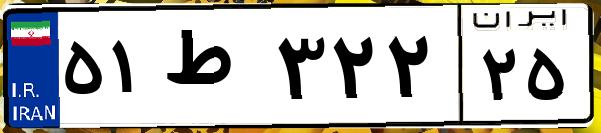1: (110, 28, 158, 98)
2: (385, 28, 445, 110), (330, 28, 385, 110), (475, 38, 525, 113)
3: (270, 28, 330, 110)
5: (57, 26, 110, 100), (525, 38, 570, 115)
ط: (158, 20, 270, 120)
